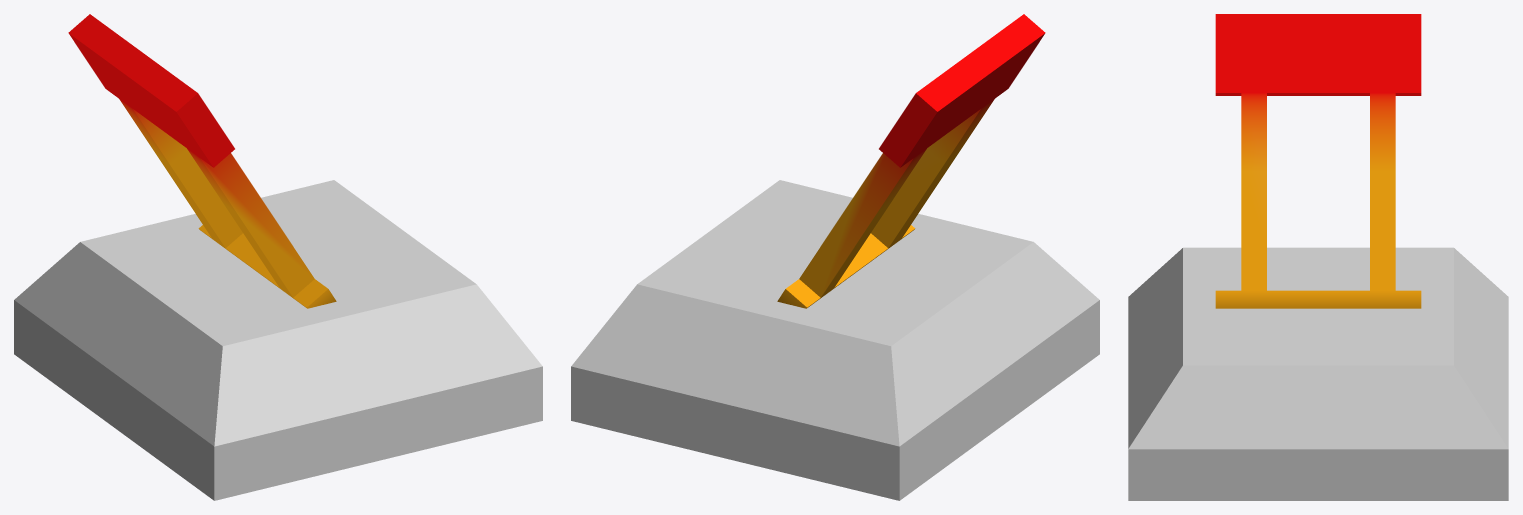
Rendered from Lever.fbx.
The picture shows the model from 3 angles, left to right: view 1: azimuth 30°, elevation 25°; view 2: azimuth 150°, elevation 25°; view 3: azimuth 270°, elevation 25°; orthographic projection. The views are drawn at different scales.
Parts seen in each view (by area): view 1: Base, Alavanca; view 2: Base, Alavanca; view 3: Base, Alavanca.
Boxes of the visible parts, x1,y1,x2,y2 form: Base: [14, 180, 542, 500]; Alavanca: [68, 14, 336, 308]; Base: [571, 180, 1099, 500]; Alavanca: [777, 14, 1045, 308]; Base: [1128, 247, 1508, 500]; Alavanca: [1215, 14, 1421, 308].
Size of the model in its own units: 490 by 523 by 518.
